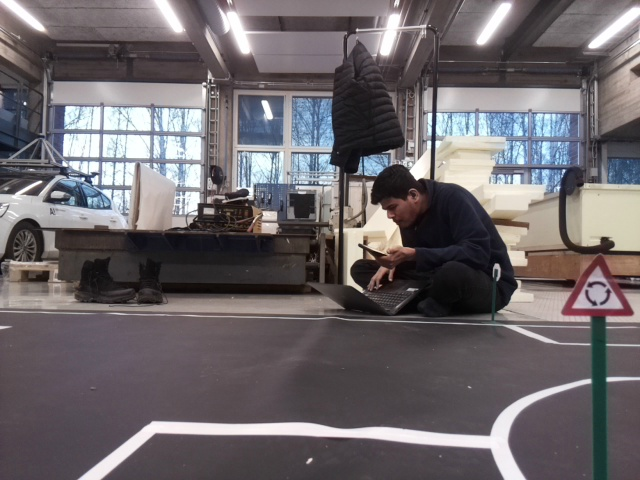Roundabout: (559, 248, 632, 310)
